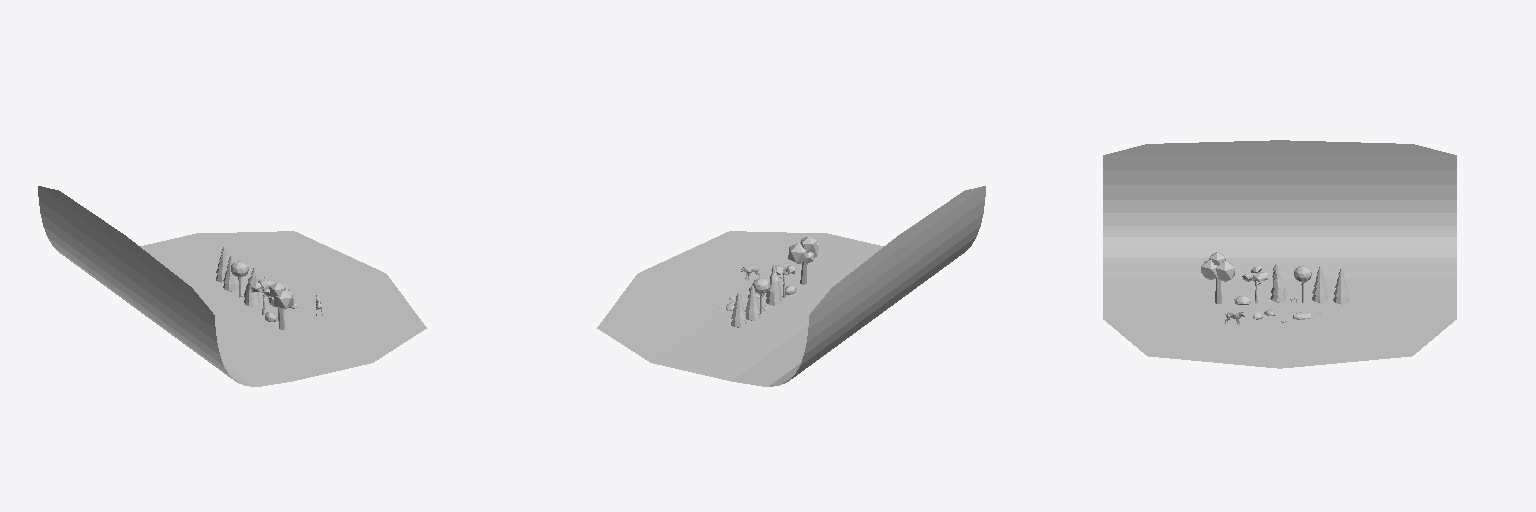
File: parque.obj
3 views of the same model, side by side, from view 1: azimuth 30°, elevation 25°; view 2: azimuth 150°, elevation 25°; view 3: azimuth 270°, elevation 25° (orthographic).
Visible parts, largest first — view 1: Plane, Cylinder_Cylinder.006; view 2: Plane, Cylinder_Cylinder.006; view 3: Plane, Cylinder_Cylinder.006.
Part boxes in pixels (left/top/right/bottom): Plane: left=38, top=186, right=426, bottom=386; Cylinder_Cylinder.006: left=268, top=282, right=293, bottom=329; Plane: left=597, top=186, right=985, bottom=386; Cylinder_Cylinder.006: left=788, top=236, right=818, bottom=284; Plane: left=1103, top=140, right=1456, bottom=368; Cylinder_Cylinder.006: left=1201, top=252, right=1234, bottom=303.
Bounding box in the file's own units: 50.16 × 19.21 × 59.